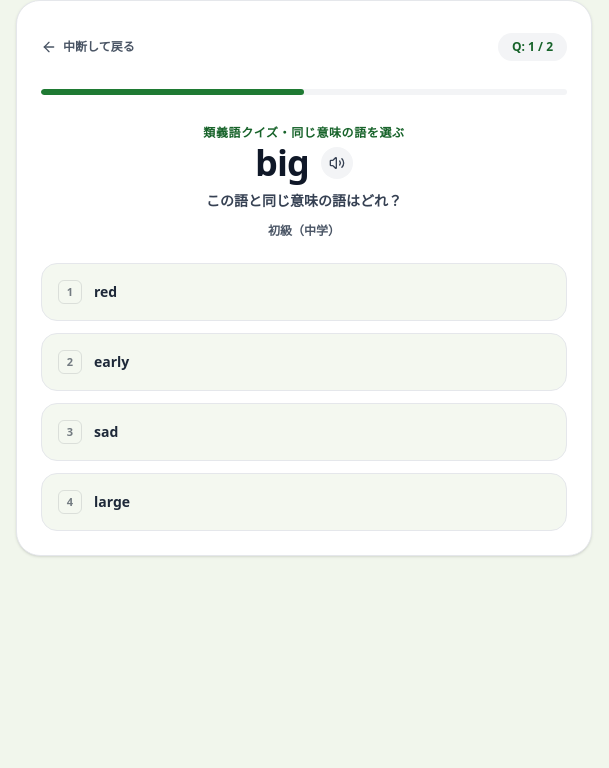
Test case: 類義語クイズ › 違う語を選ぶと不正解になり、苦手単語に入る
expect the text "この語と同じ意味の語はどれ？" is shown: met, box [206,191,402,210]
Click the button "1 red".
click(70, 292)  # box [41,263,567,321]
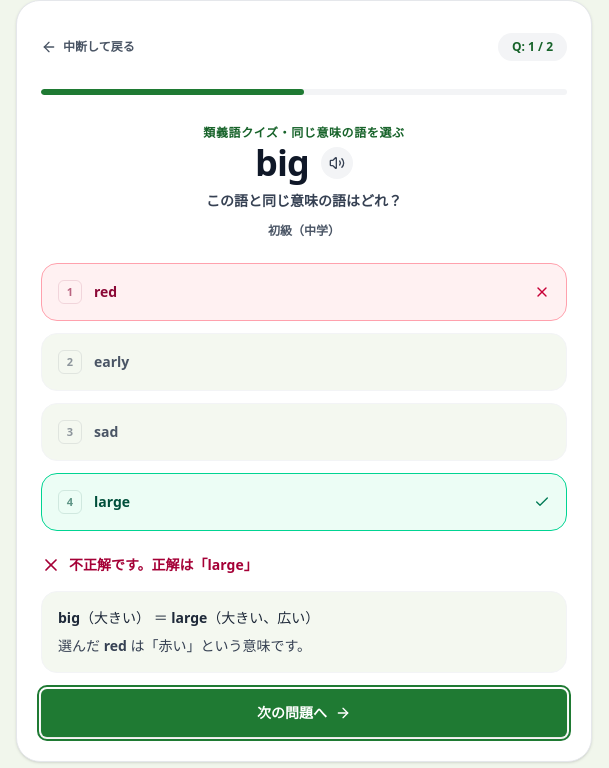
expect the message shows "不正解です": met, box [69,555,258,574]
expect the element with id "choice_quiz_feedback" shows "赤い": met, box [158,636,186,655]
